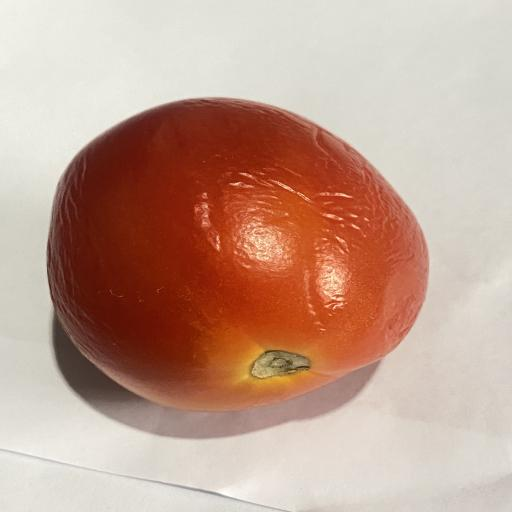spoiled: (47, 98, 428, 411)
